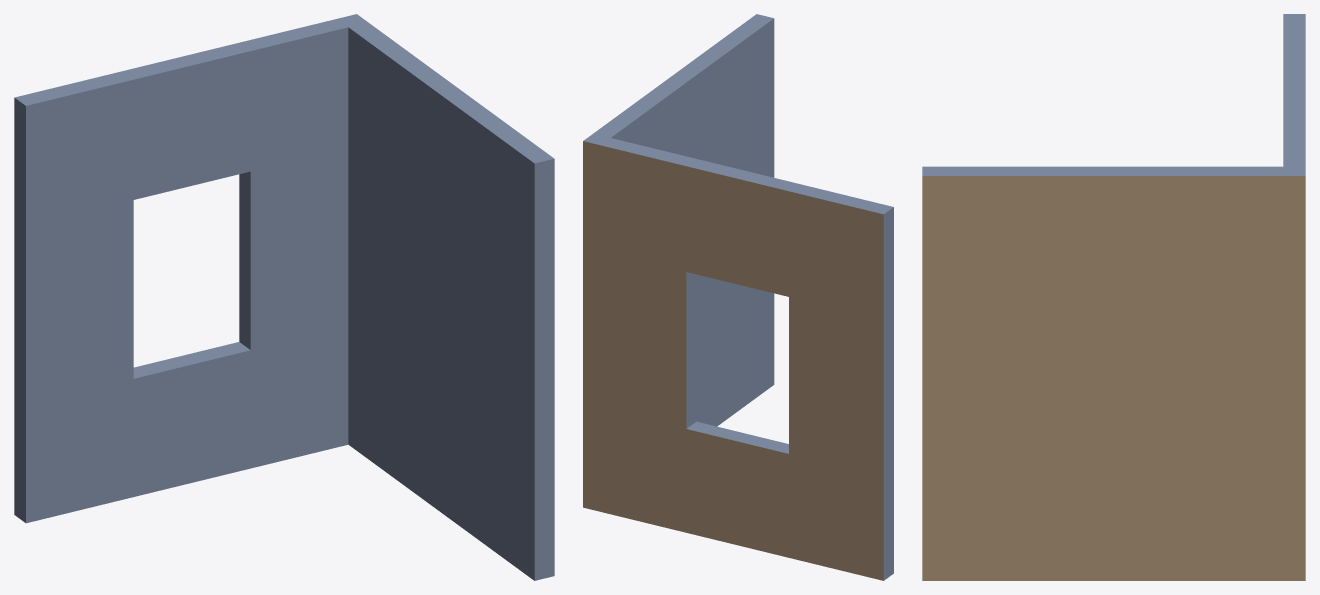
The model's file is Wall2_C3_07.fbx.
3 renders of one model, left to right at view 1: azimuth 30°, elevation 25°; view 2: azimuth 150°, elevation 25°; view 3: azimuth 270°, elevation 25°, orthographic. The views are drawn at different scales.
Visible parts, largest first — view 1: Wall2_C3_07; view 2: Wall2_C3_07; view 3: Wall2_C3_07.
Part boxes in pixels (x1,y1,x2,y2): Wall2_C3_07: [14, 14, 554, 580]; Wall2_C3_07: [583, 14, 893, 580]; Wall2_C3_07: [922, 14, 1305, 580].
Size of the model in its own units: 258 by 300 by 258.
